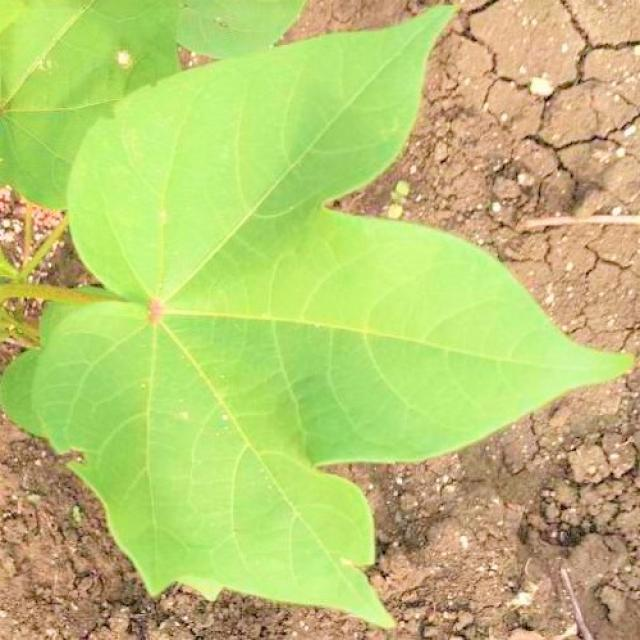Healthy Leaf: (2, 1, 638, 640)
